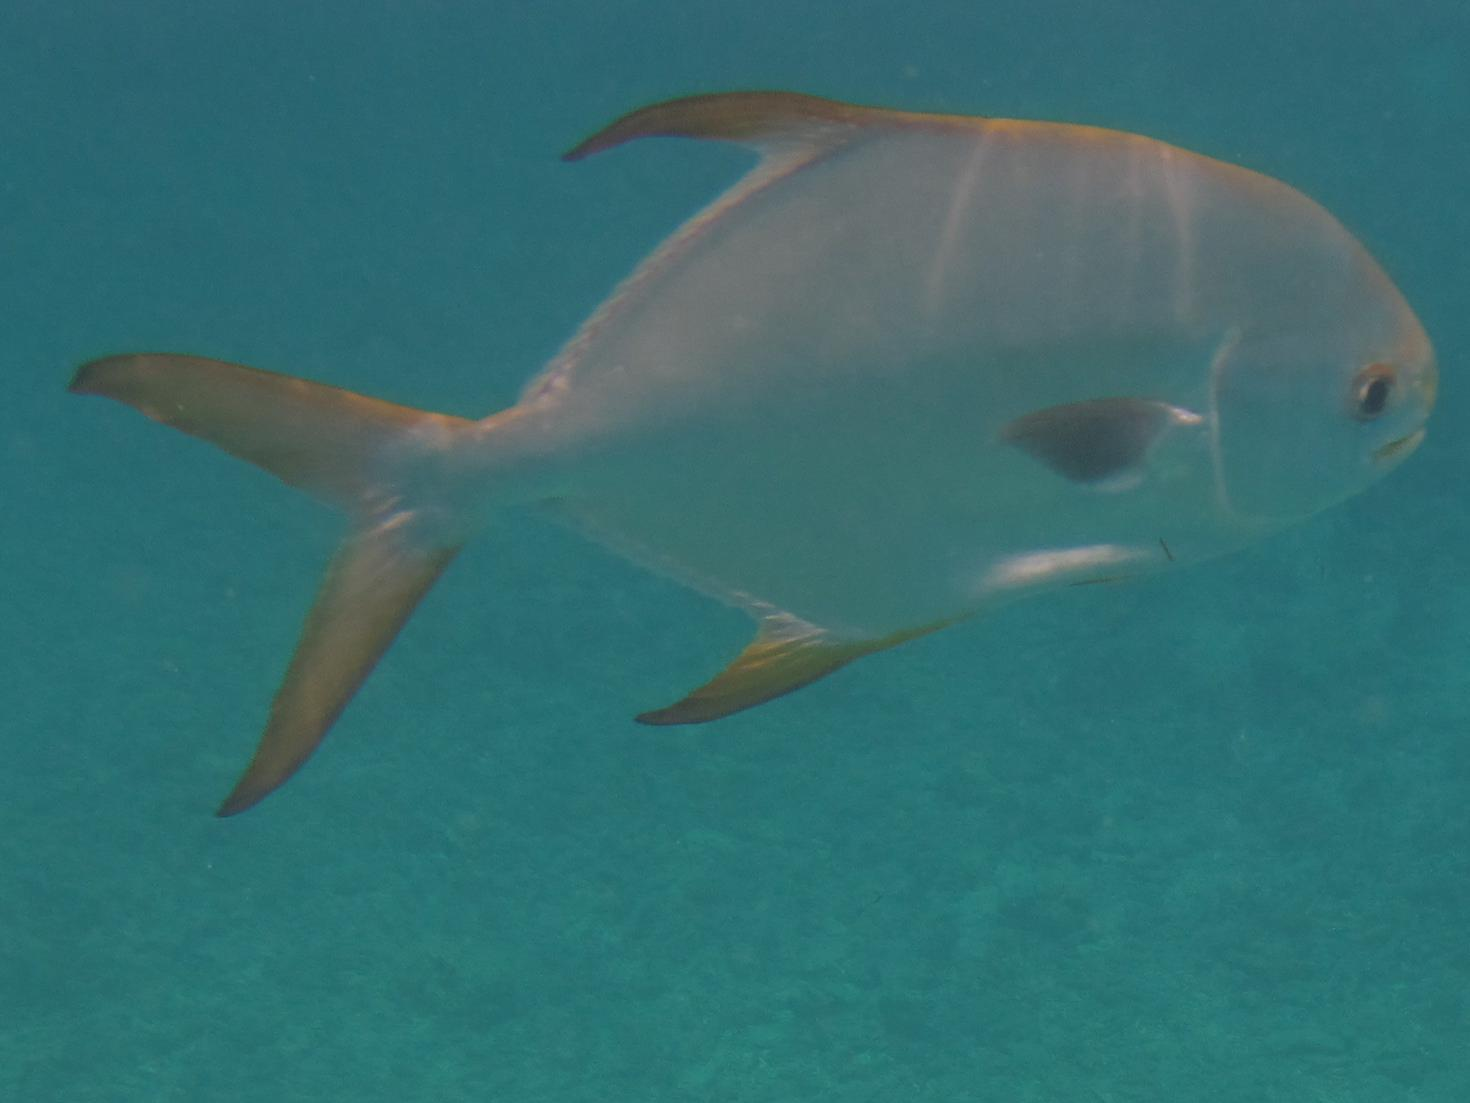Fish: (12, 64, 1462, 863)
